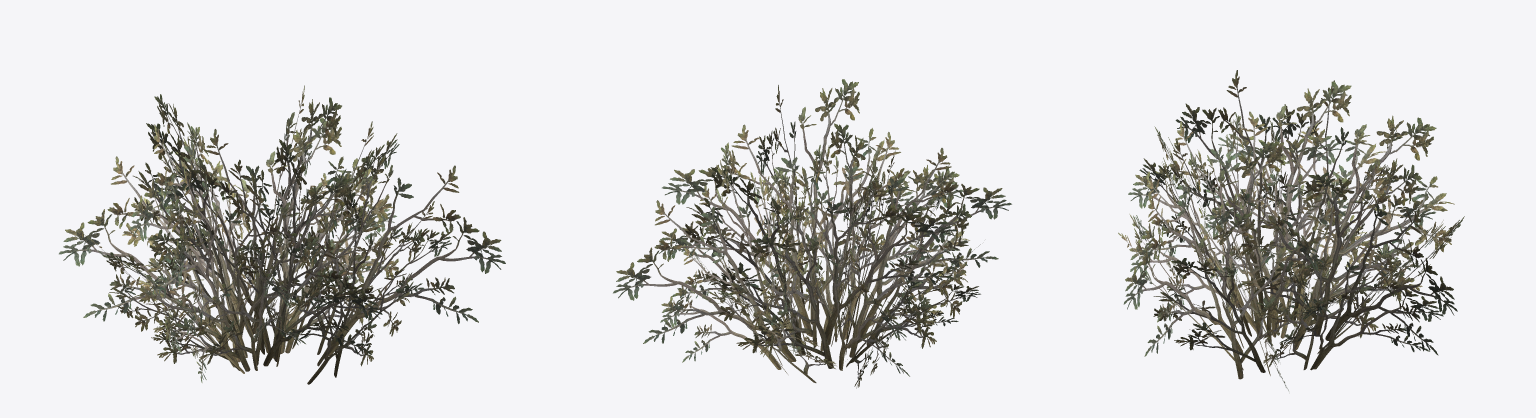
Rendered from bg_lut_foliage_drybush02_sm_ksy.FBX.
3 views of the same model, side by side, from view 1: azimuth 30°, elevation 25°; view 2: azimuth 150°, elevation 25°; view 3: azimuth 270°, elevation 25° (orthographic). The views are drawn at different scales.
Parts seen in each view (by area): view 1: bg_lut_foliage_drybush02_sm_ksy; view 2: bg_lut_foliage_drybush02_sm_ksy; view 3: bg_lut_foliage_drybush02_sm_ksy.
Part boxes in pixels (bbox=[...]): bg_lut_foliage_drybush02_sm_ksy: bbox=[59, 85, 505, 384]; bg_lut_foliage_drybush02_sm_ksy: bbox=[613, 79, 1011, 388]; bg_lut_foliage_drybush02_sm_ksy: bbox=[1118, 70, 1464, 390].
Bounding box in the file's own units: 148 × 121 × 143.
